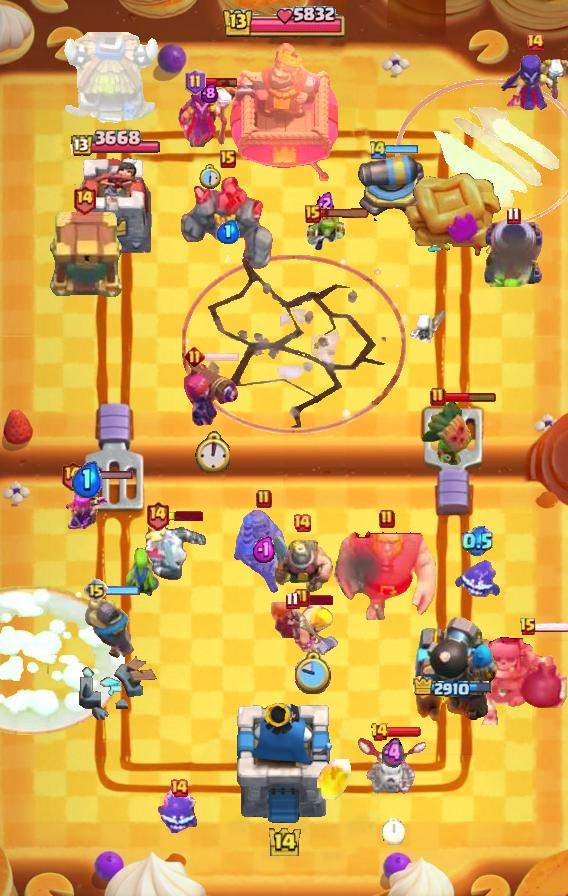archer: (292, 597, 336, 652)
axe: (177, 81, 241, 147), (500, 52, 568, 114)
balloon: (334, 522, 440, 620)
bandit: (271, 533, 333, 597)
bomb: (45, 211, 123, 299)
cannoneer-tower: (179, 173, 277, 275)
clock: (221, 3, 347, 43)
electro-giant: (461, 631, 568, 724)
electro-spirit: (70, 461, 101, 498), (462, 527, 493, 558), (382, 738, 404, 770), (252, 536, 277, 564), (216, 220, 239, 244), (316, 191, 334, 217), (201, 83, 218, 103)
elixir: (295, 650, 333, 694), (194, 431, 230, 473), (383, 818, 406, 845), (198, 164, 221, 189)
emote: (444, 391, 497, 403), (83, 470, 134, 482), (319, 208, 371, 219), (203, 351, 241, 363), (203, 76, 239, 88), (386, 726, 422, 738), (106, 584, 142, 595), (386, 145, 420, 156), (167, 511, 203, 521), (297, 595, 333, 605), (536, 623, 568, 634)
evolution-symbol: (61, 478, 111, 548)
firecracker: (84, 590, 136, 660)
goblin-barrel: (420, 398, 476, 470)
goblin-cage: (481, 217, 545, 287)
guard: (182, 255, 406, 434)
heal-spirit: (409, 307, 450, 351)
hog-rider: (269, 600, 339, 656)
ice-wizard: (396, 79, 568, 229)
king-tower: (230, 43, 338, 181), (235, 703, 333, 826)
mega-minion: (183, 354, 241, 428)
mini-pekka: (354, 731, 432, 799)
mortar-evolution: (143, 519, 209, 585)
phoenix-big: (0, 585, 126, 735)
prince: (59, 32, 161, 128)
queen-tower: (74, 157, 154, 256)
ram-rider: (231, 505, 297, 595)
royal-recruit: (354, 151, 428, 221)
selected: (68, 129, 160, 158), (414, 676, 495, 700)
spear-goblin: (155, 787, 203, 833), (454, 559, 500, 603)
text: (71, 184, 96, 215), (60, 461, 85, 491), (146, 501, 170, 532), (84, 578, 108, 602), (185, 69, 206, 95), (183, 345, 204, 366), (368, 140, 388, 161), (525, 32, 545, 52), (292, 513, 312, 533), (370, 722, 390, 742), (169, 778, 189, 798), (519, 617, 537, 637), (430, 387, 446, 407), (256, 489, 272, 509), (379, 509, 395, 529), (294, 588, 310, 608), (220, 150, 236, 168), (305, 205, 321, 223), (507, 206, 522, 225), (285, 591, 300, 609)
tower-bar: (403, 615, 503, 731)
valkyrie: (315, 759, 353, 805)
zap: (121, 547, 161, 599), (304, 210, 346, 254)
